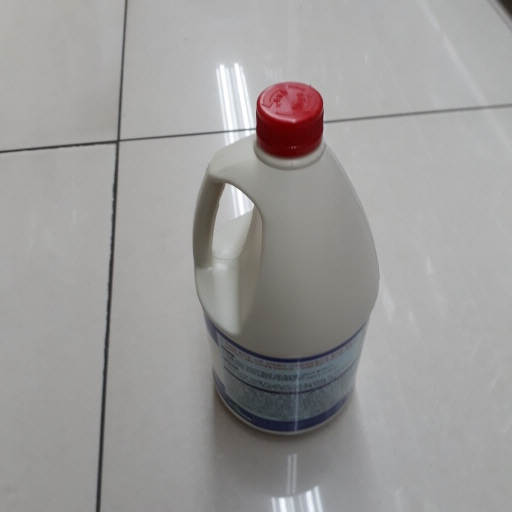Plastic_1: (188, 80, 383, 435)
